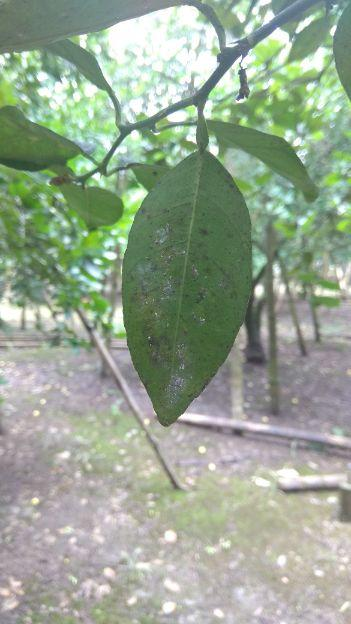Myzus persicae: (133, 218, 197, 404)
